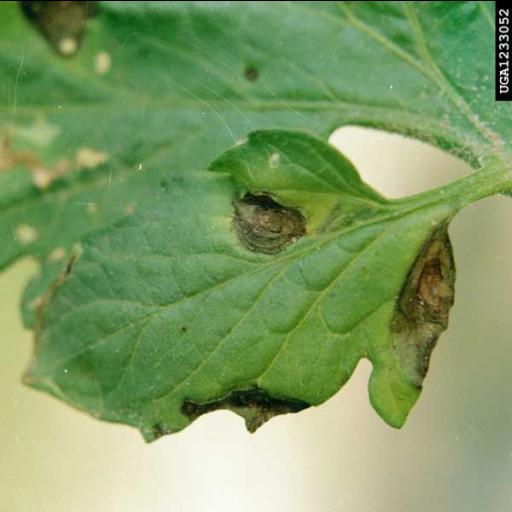Late Blight: (21, 126, 455, 448)
